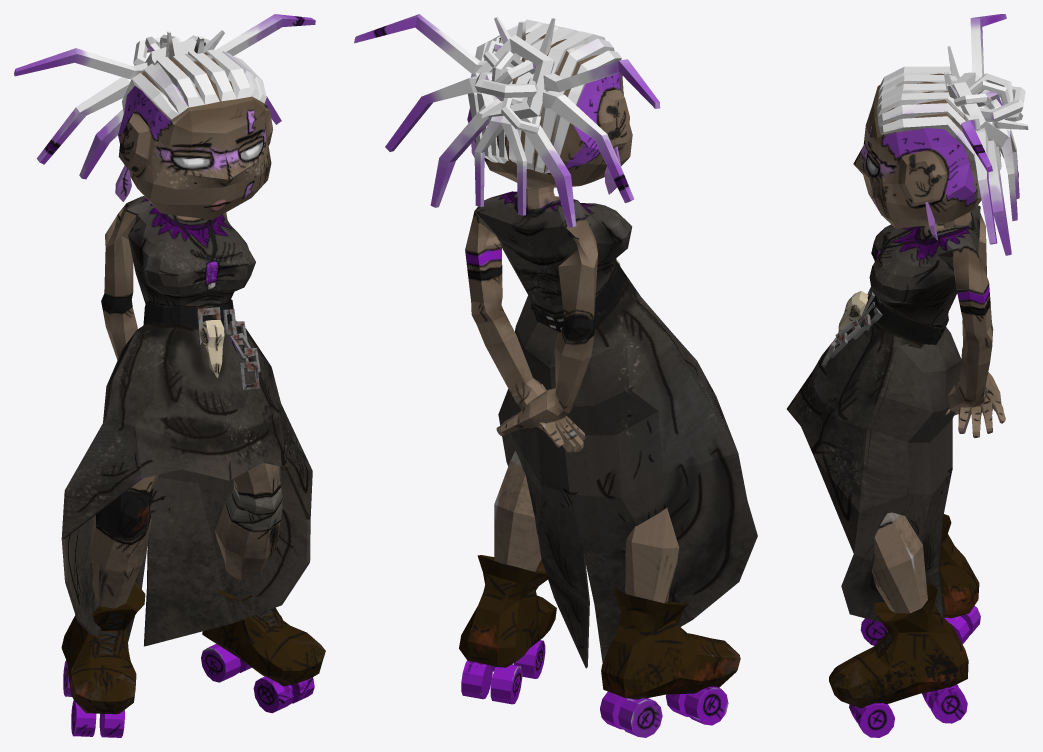
Rendered from bruja_000008.obj.
The picture shows the model from 3 angles, left to right: view 1: azimuth 30°, elevation 25°; view 2: azimuth 150°, elevation 25°; view 3: azimuth 270°, elevation 25°; orthographic projection. The views are drawn at different scales.
Visible parts, largest first — view 1: Bruja_Plane.001; view 2: Bruja_Plane.001; view 3: Bruja_Plane.001.
Part boxes in pixels (bbox=[...]): Bruja_Plane.001: bbox=[14, 14, 325, 737]; Bruja_Plane.001: bbox=[354, 14, 757, 737]; Bruja_Plane.001: bbox=[787, 14, 1028, 737].
Bounding box in the file's own units: 7.99 × 16.12 × 5.46.
